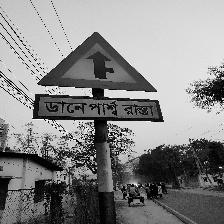Side-road-right: (35, 33, 163, 123)
